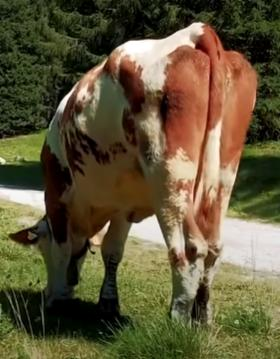cow: (7, 22, 259, 332)
